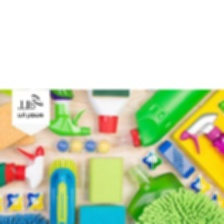cleaning_solution: (114, 62, 222, 149), (40, 25, 91, 139), (124, 161, 216, 224), (84, 19, 133, 137), (177, 112, 224, 165), (0, 142, 47, 192)
